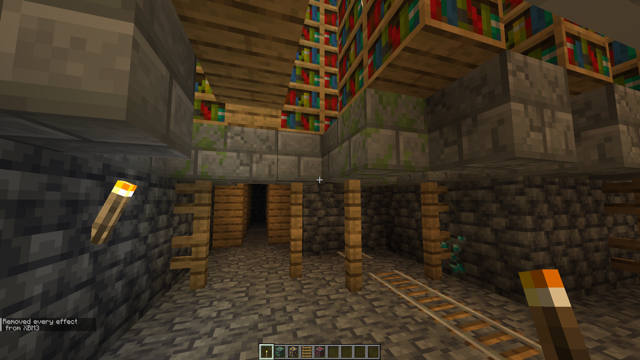diamond: (439, 232, 466, 277)
